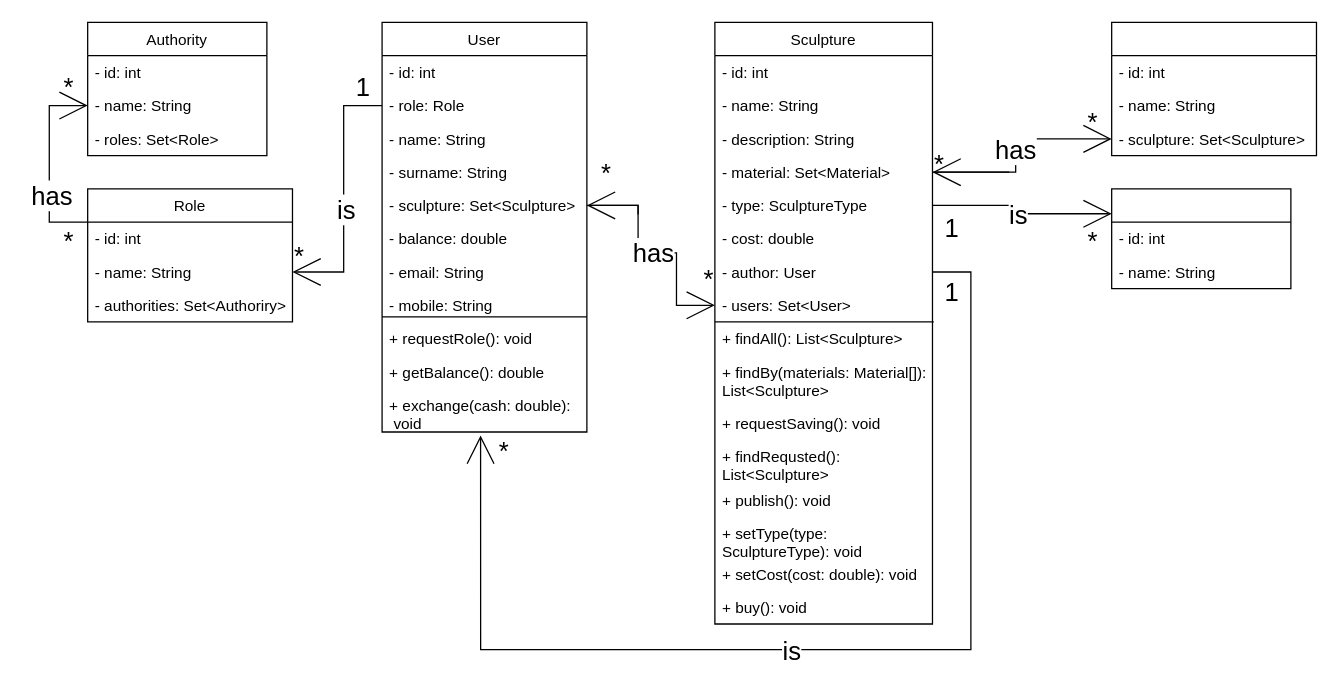
The diagram is 1339 pixels wide and 700 high, and some of its shapes have lost their labels. Each missing label, with the box of its shape:
Material: (1110, 21, 1316, 156)
SculptureType: (1110, 188, 1291, 289)
